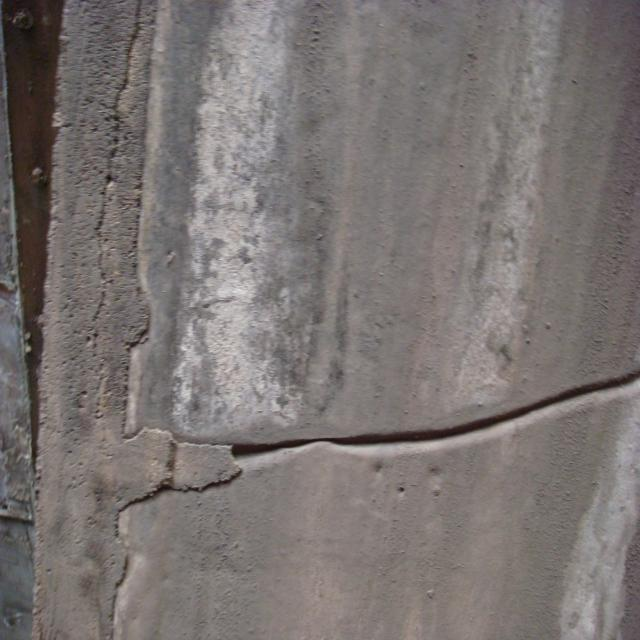vertical crack: (74, 0, 141, 340)
